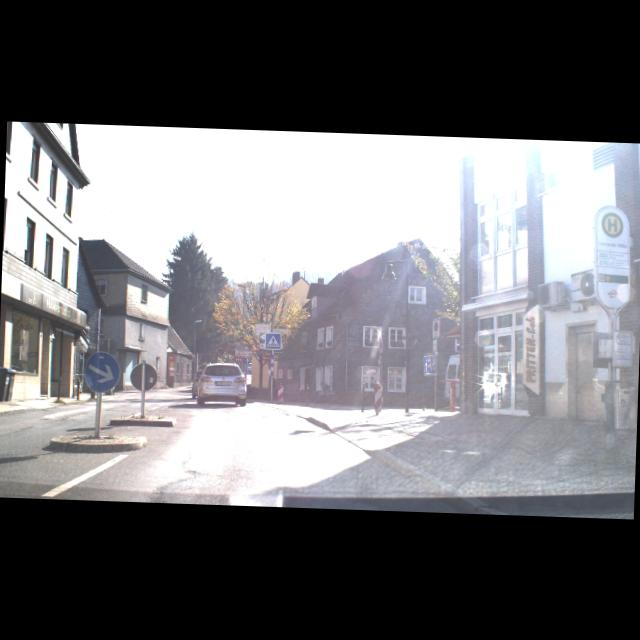mandatory: (84, 350, 120, 393)
